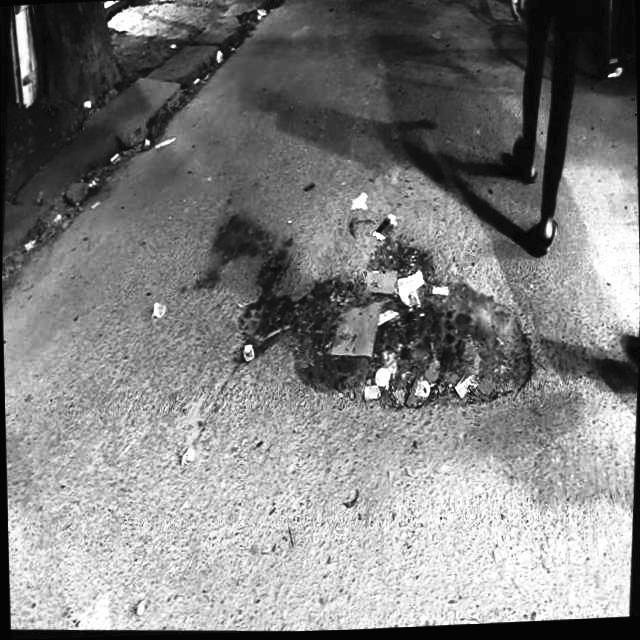Pothole: (317, 238, 532, 435)
